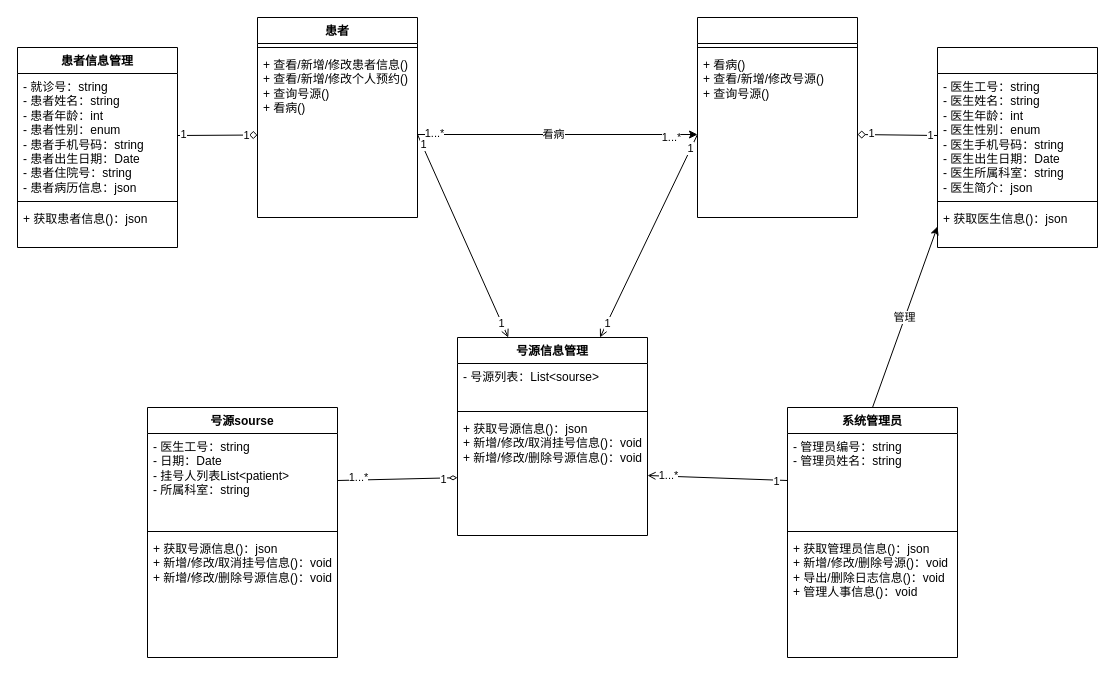
This 1115x678 diagram has some shape labels left out. Here are the shapes that lost their labels. From the top down, the box of each, then its label:
(696, 16, 858, 218): 医生
(936, 46, 1098, 248): 医生信息管理
